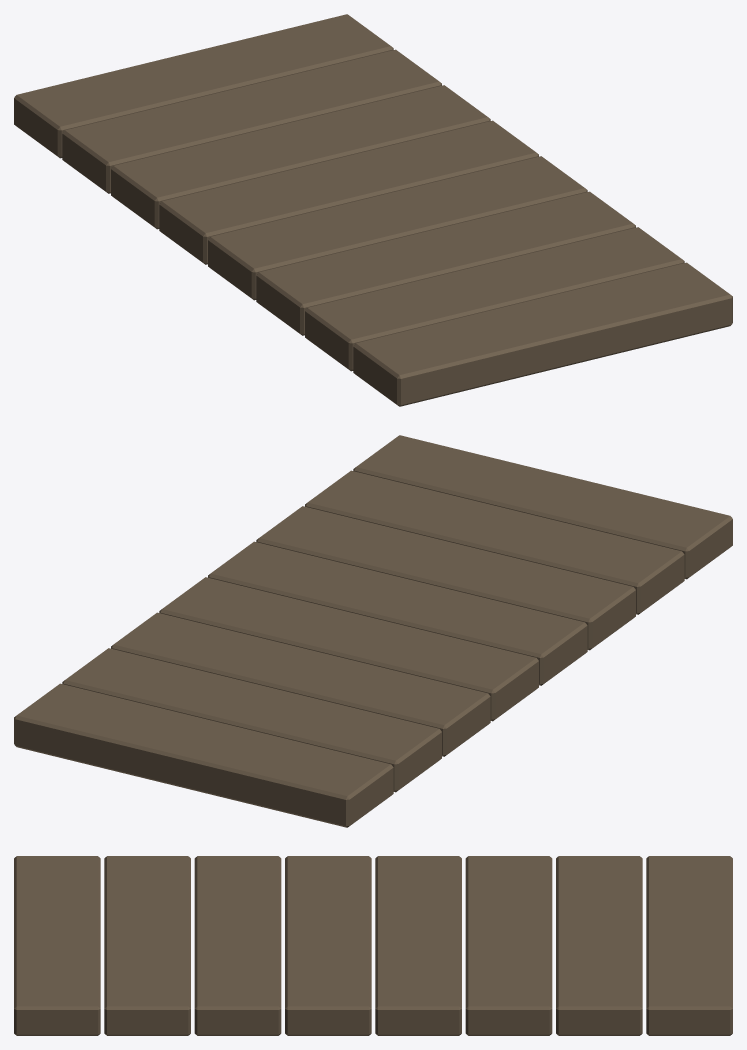
Rendered from landscape-path.lod0.glb.
3 views of the same model, one above another, from view 1: azimuth 30°, elevation 25°; view 2: azimuth 150°, elevation 25°; view 3: azimuth 270°, elevation 25° (orthographic). The views are drawn at different scales.
Visible parts, largest first — view 1: landscape-path__body; view 2: landscape-path__body; view 3: landscape-path__body.
Part boxes in pixels (x1,y1,x2,y2): landscape-path__body: (14, 14, 732, 406); landscape-path__body: (14, 435, 732, 827); landscape-path__body: (14, 856, 732, 1035).
Size of the model in its own units: 2 by 0.18 by 3.98.
